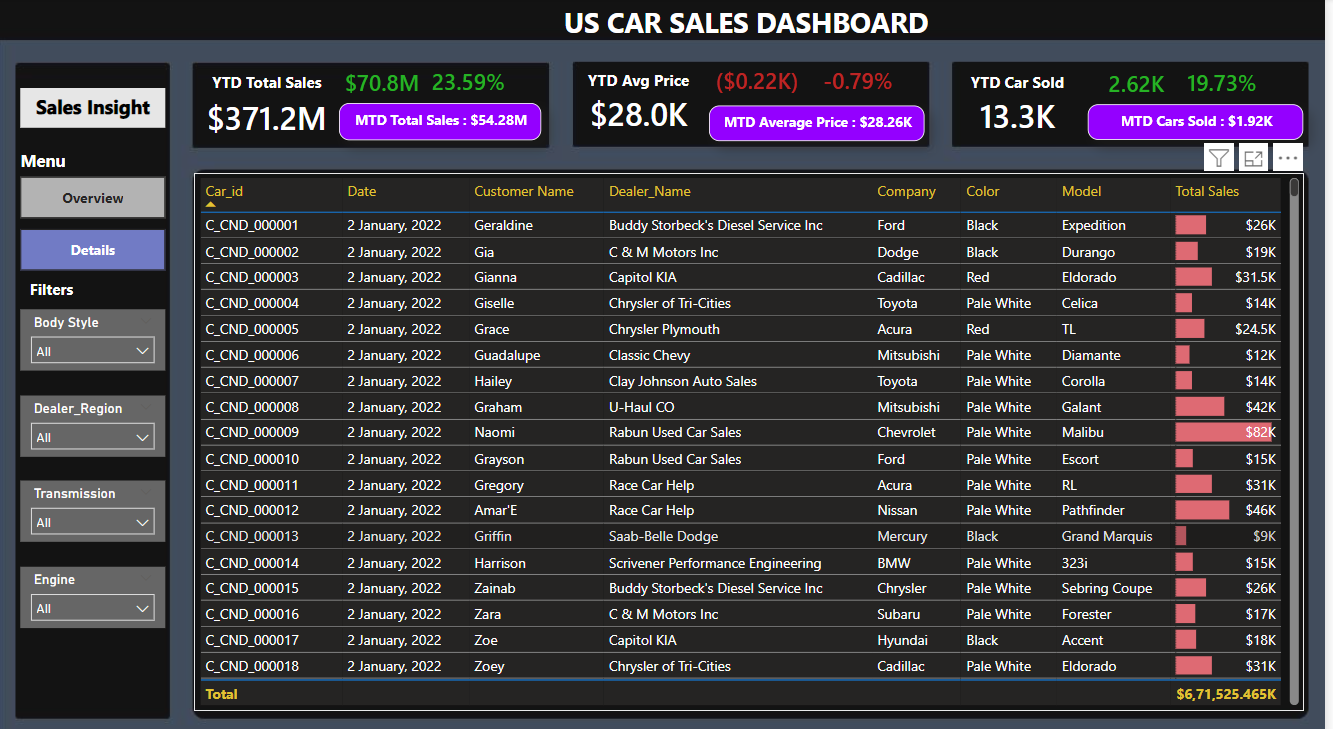

Layout of this report page (visuals, bound fields, positions):
{"tool":"powerbi","page":{"name":"Details","canvas":[1280,720],"ordinal":1},"visuals":[{"type":"card","title":"YTD Total Sales","fields":{"Values":["car_data.YTD Total Sales"]},"box":[188.1,71.4,140.5,70.2],"z":0},{"type":"card","fields":{"Values":["car_data.Sales Difference"]},"box":[328.6,69,83.3,29.8],"z":1000},{"type":"card","fields":{"Values":["car_data.YOY Sales Growth"]},"box":[411.9,67.9,83.3,29.8],"z":2000},{"type":"card","fields":{"Values":["car_data.MTD KPI"]},"box":[328.6,101.2,195.2,35.7],"z":3000},{"type":"card","title":"YTD Avg Price","fields":{"Values":["car_data.YTD Average Price"]},"box":[548.8,69,136.9,67.9],"z":4000},{"type":"card","fields":{"Values":["car_data.Average Price Difference"]},"box":[685.7,66.7,92.9,31],"z":5000},{"type":"card","fields":{"Values":["car_data.MTD Average Price KPI"]},"box":[685.7,103.6,208.3,34.5],"z":6000},{"type":"card","fields":{"Values":["car_data.YOY Average Price Growth"]},"box":[790.5,66.7,77.4,29.8],"z":7000},{"type":"card","title":"YTD Car Sold","fields":{"Values":["car_data.YTD Car Sold"]},"box":[914.3,71.4,136.9,66.7],"z":8000},{"type":"card","fields":{"Values":["car_data.Car Sold Difference"]},"box":[1051.8,68.9,91.9,30.2],"z":9000},{"type":"card","fields":{"Values":["car_data.MTD Cars Sold KPI"]},"box":[1051.2,102.4,208.3,34.5],"z":10000},{"type":"card","fields":{"Values":["car_data.YOY Car Sold Growth"]},"box":[1134.5,69,92.9,29.8],"z":11000},{"type":"slicer","fields":{"Values":["car_data.Body Style"]},"box":[20.6,300.5,140,59],"z":12000},{"type":"slicer","fields":{"Values":["car_data.Dealer_Region"]},"box":[20.6,384.2,140,59],"z":13000},{"type":"slicer","fields":{"Values":["car_data.Transmission"]},"box":[20.6,465.2,140,59],"z":14000},{"type":"slicer","fields":{"Values":["car_data.Engine"]},"box":[20.6,548.9,140,59],"z":15000},{"type":"textbox","box":[20.6,264.8,60.4,35.7],"z":16000},{"type":"textbox","box":[450.1,0,542,52.1],"z":17000},{"type":"tableEx","fields":{"Values":["car_data.Car_id","car_data.Date","car_data.Customer Name","car_data.Dealer_Name","car_data.Company","car_data.Color","car_data.Model","Sum(car_data.Price ($))"]},"box":[188,168.8,1071.7,518.7],"z":18000},{"type":"textbox","box":[20.6,87,140.2,38.7],"z":19000},{"type":"textbox","box":[15.7,141.4,70.1,32.6],"z":20000},{"type":"pageNavigator","box":[20.6,172.9,140.2,91.9],"z":21000}]}

Visuals, with their boxes in screenshot pixels (x1, y1, x2, y2), scaled from the page's 1280x720 canvas onto the 1333x729 screenshot:
"YTD Total Sales" card: bbox(196, 72, 342, 143)
card - car_data.Sales Difference: bbox(342, 70, 429, 100)
card - car_data.YOY Sales Growth: bbox(429, 69, 516, 99)
card - car_data.MTD KPI: bbox(342, 102, 545, 139)
"YTD Avg Price" card: bbox(572, 70, 714, 139)
card - car_data.Average Price Difference: bbox(714, 68, 811, 99)
card - car_data.MTD Average Price KPI: bbox(714, 105, 931, 140)
card - car_data.YOY Average Price Growth: bbox(823, 68, 904, 98)
"YTD Car Sold" card: bbox(952, 72, 1095, 140)
card - car_data.Car Sold Difference: bbox(1095, 70, 1191, 100)
card - car_data.MTD Cars Sold KPI: bbox(1095, 104, 1312, 139)
card - car_data.YOY Car Sold Growth: bbox(1181, 70, 1278, 100)
slicer - car_data.Body Style: bbox(21, 304, 167, 364)
slicer - car_data.Dealer_Region: bbox(21, 389, 167, 449)
slicer - car_data.Transmission: bbox(21, 471, 167, 531)
slicer - car_data.Engine: bbox(21, 556, 167, 615)
textbox: bbox(21, 268, 84, 304)
textbox: bbox(469, 0, 1033, 53)
tableEx - car_data.Car_id x car_data.Date: bbox(196, 171, 1312, 696)
textbox: bbox(21, 88, 167, 127)
textbox: bbox(16, 143, 89, 176)
pageNavigator: bbox(21, 175, 167, 268)
